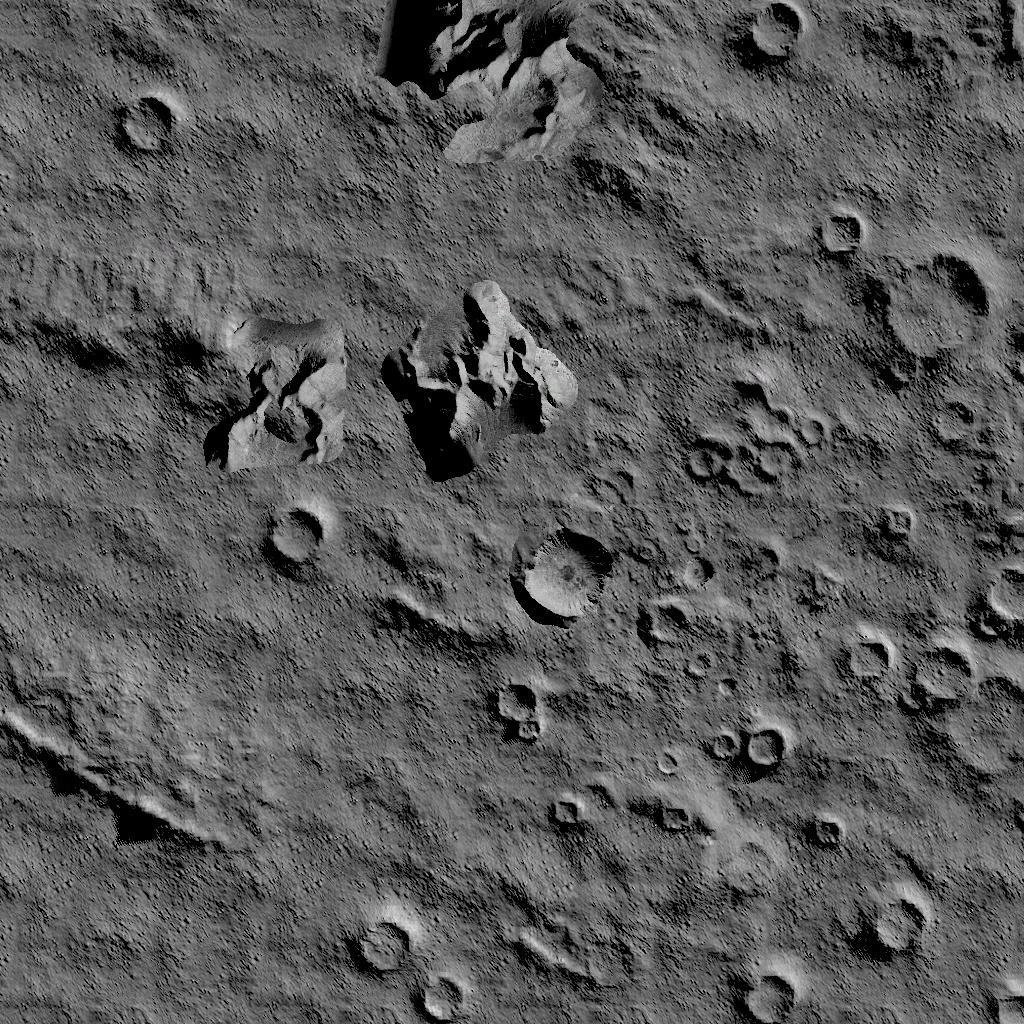Boulders: (0, 248, 353, 478), (370, 0, 666, 227), (379, 278, 577, 484), (0, 702, 224, 871), (360, 506, 488, 652)
Crater: (832, 560, 1024, 790), (875, 248, 1024, 448), (676, 366, 832, 506), (336, 902, 472, 1024), (512, 514, 624, 638), (636, 546, 720, 654), (850, 882, 938, 968), (720, 0, 812, 79), (256, 492, 332, 580), (722, 950, 812, 1024), (110, 90, 188, 170), (696, 716, 794, 772), (486, 674, 552, 754), (810, 194, 866, 264), (860, 490, 916, 542), (973, 968, 1024, 1024), (538, 790, 588, 842), (798, 807, 846, 855), (653, 794, 694, 834)
Plan surface: (3, 886, 302, 1024), (0, 502, 241, 670), (261, 671, 457, 858), (220, 0, 352, 210), (764, 98, 1022, 188)
